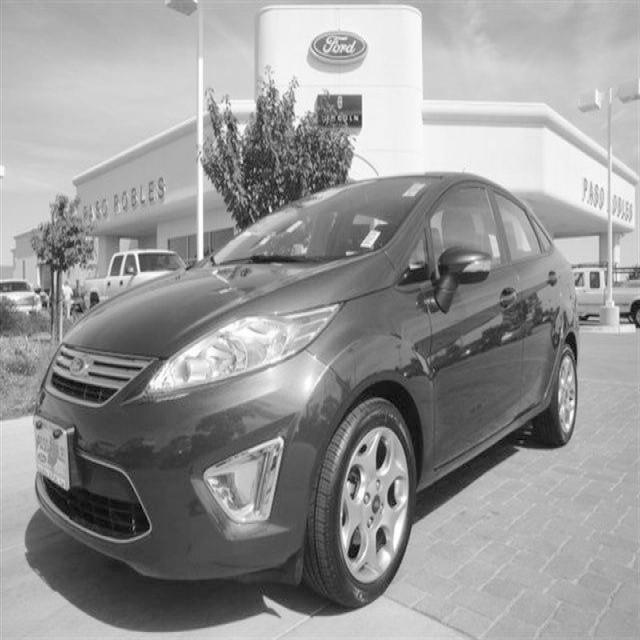car: (22, 166, 571, 607)
